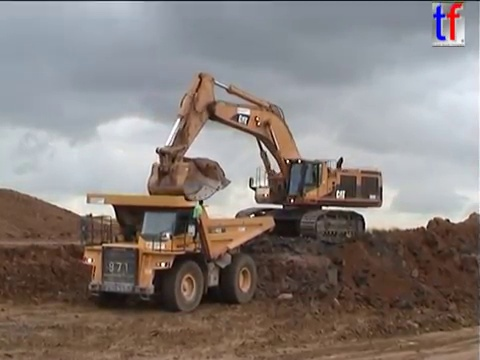excavator: (143, 69, 386, 246)
truck: (77, 191, 276, 313)
worker: (190, 197, 210, 243)
